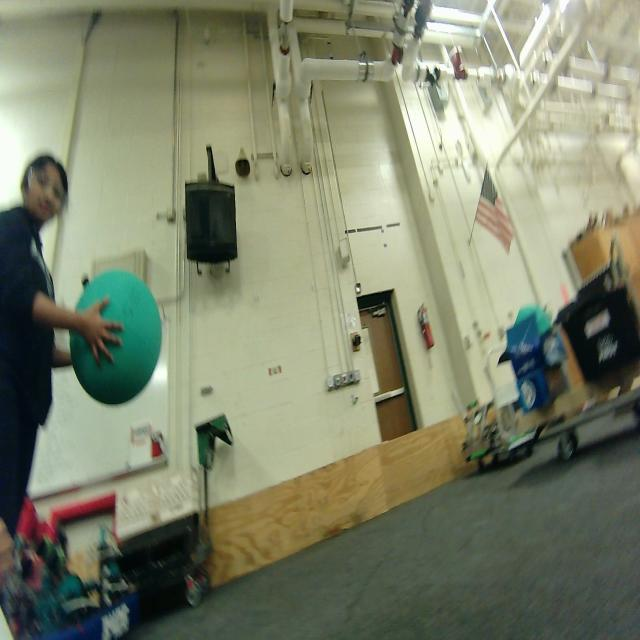algae: (69, 267, 163, 406)
